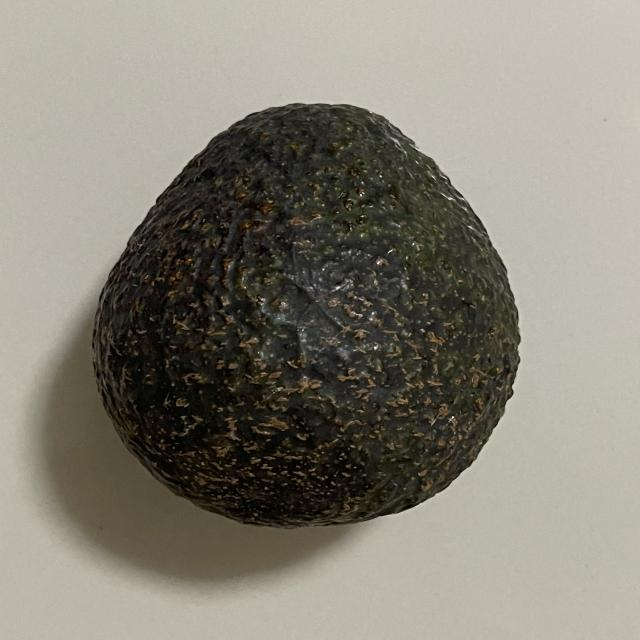Level1: (80, 92, 535, 538)
